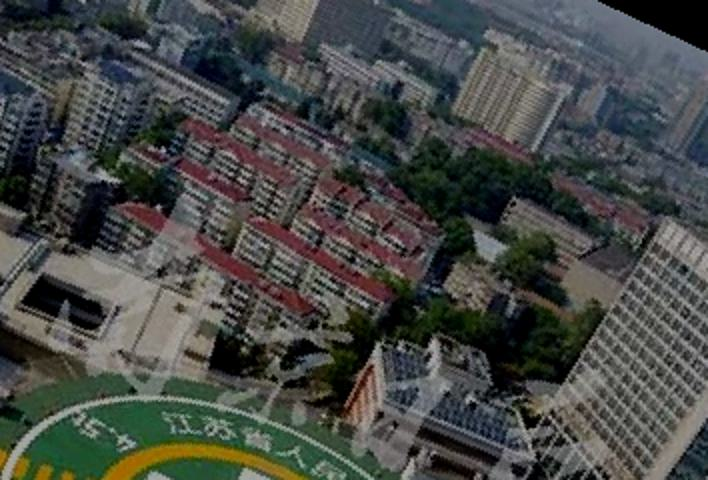Apron: (95, 440, 308, 480)
